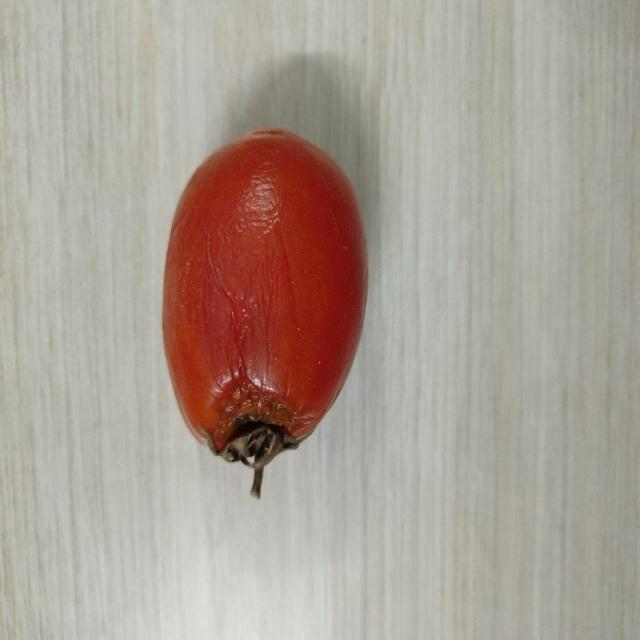Rotten: (163, 124, 369, 458)
